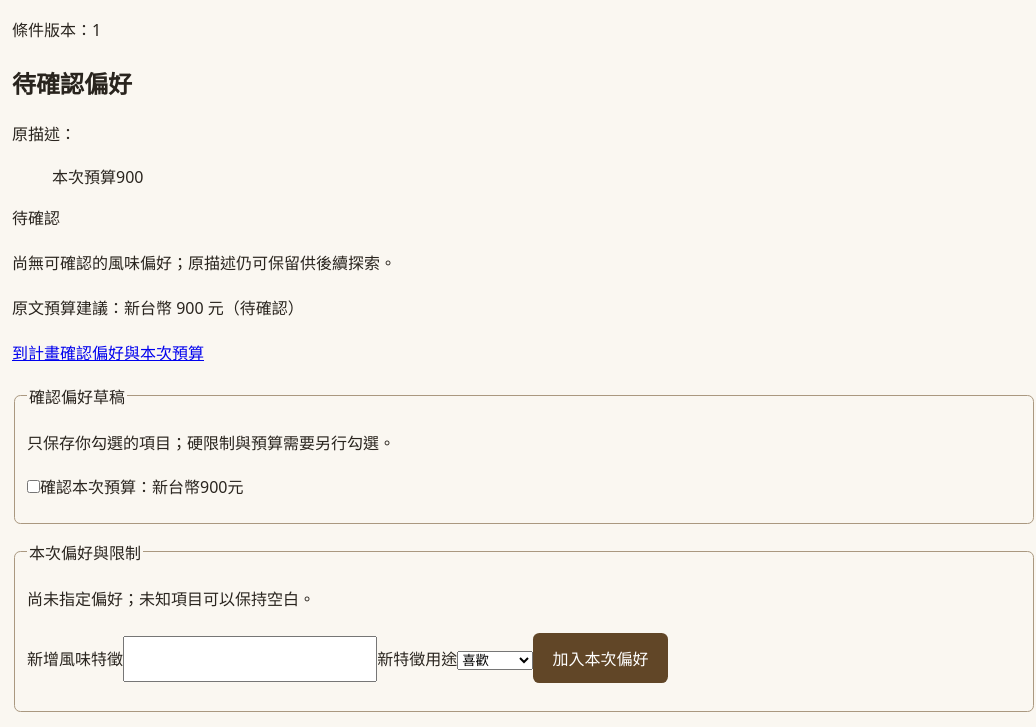
Test case: submit revalidates a proposal before the next polling tick
Click the checkbox labelled "確認本次預算：新台幣900元". click: coordinates (34, 487)
box: [27, 480, 40, 493]
(page scrolled)
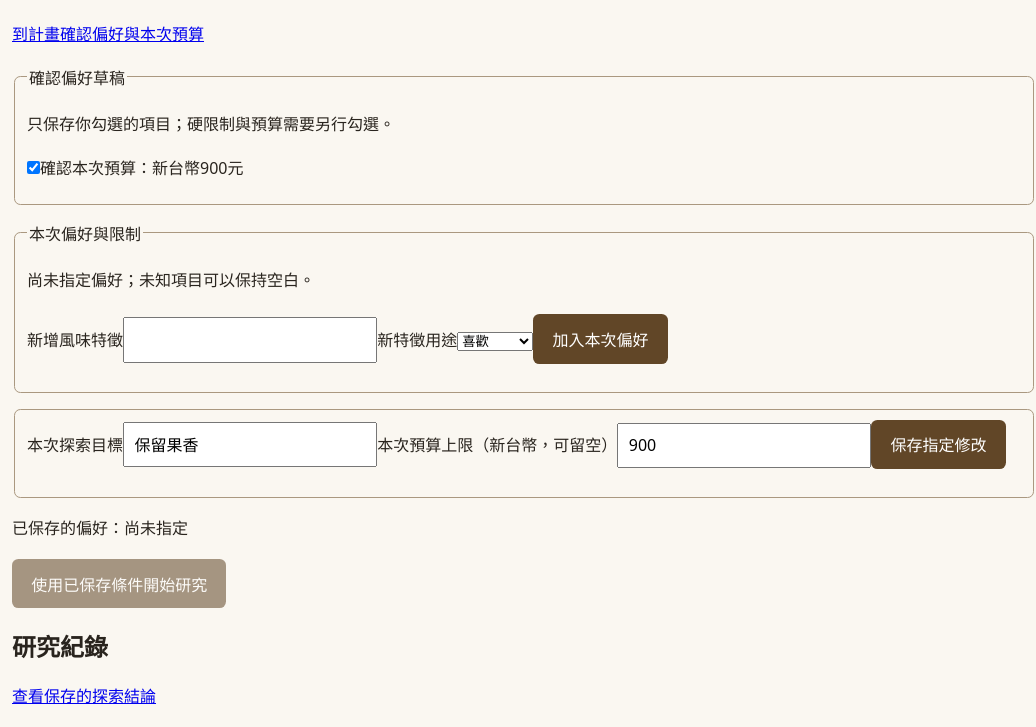
Click the button "保存指定修改". click: coordinates (939, 444)
box: [871, 420, 1006, 469]
(page scrolled)
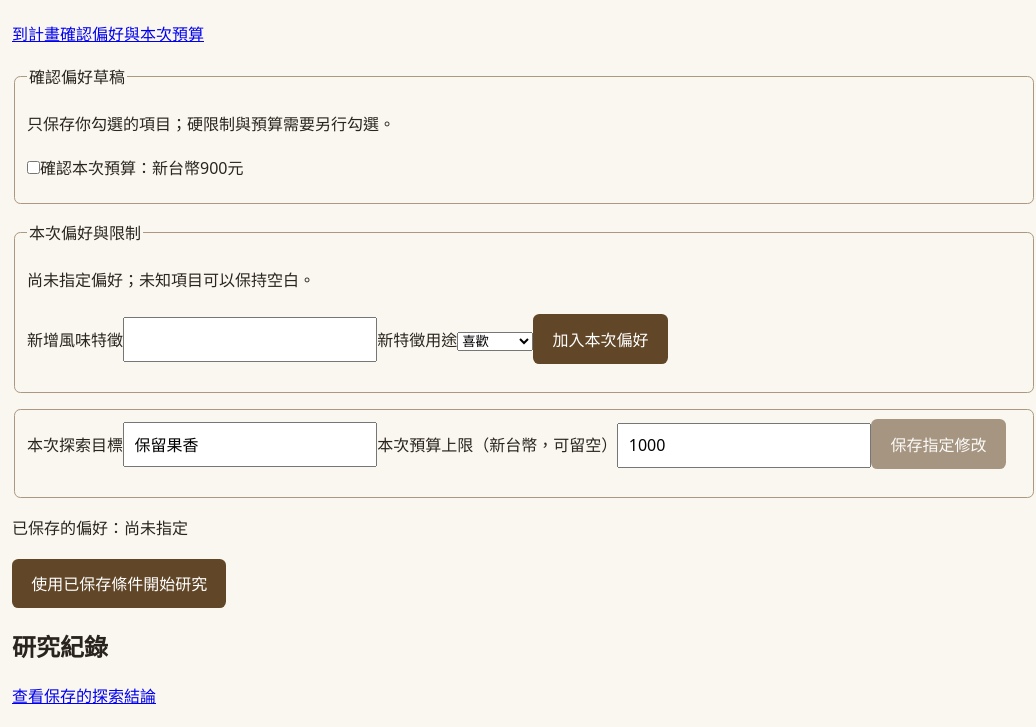
Check: the number field labelled "本次預算上限（新台幣，可留空）" holds "1000", box [617, 422, 871, 468]
